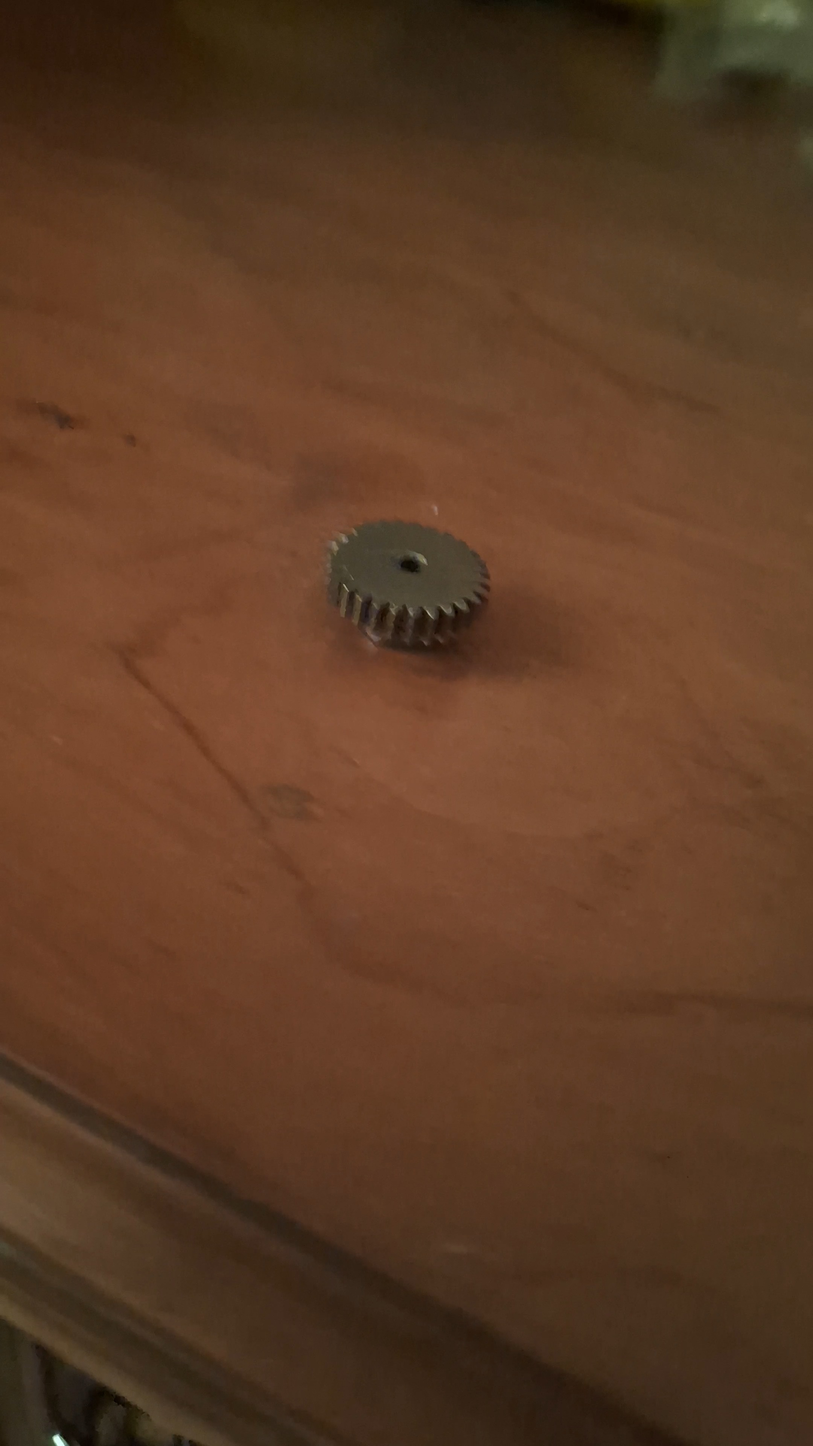spur gear: (327, 521, 489, 648)
